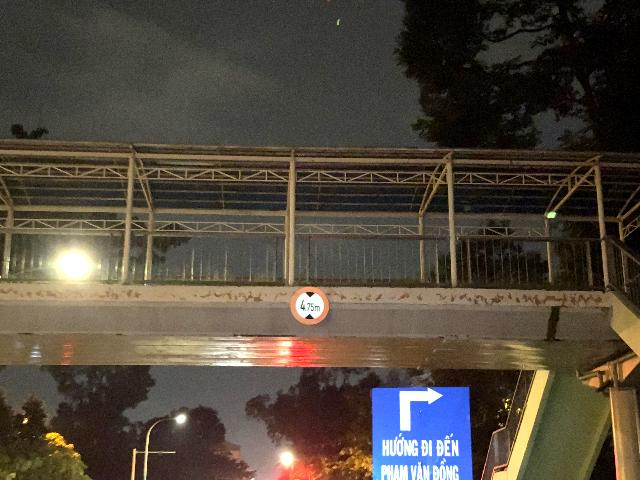han-che-chieu-cao: (290, 287, 329, 325)
